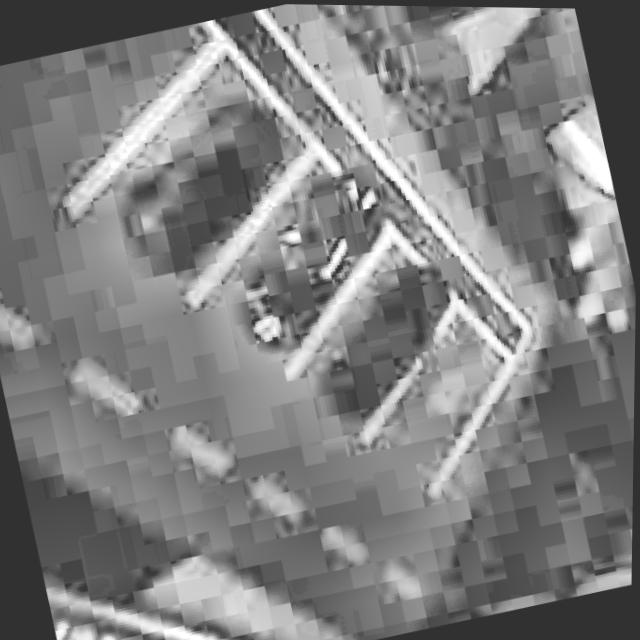car: (93, 82, 327, 303), (201, 155, 423, 372), (274, 239, 487, 440)
